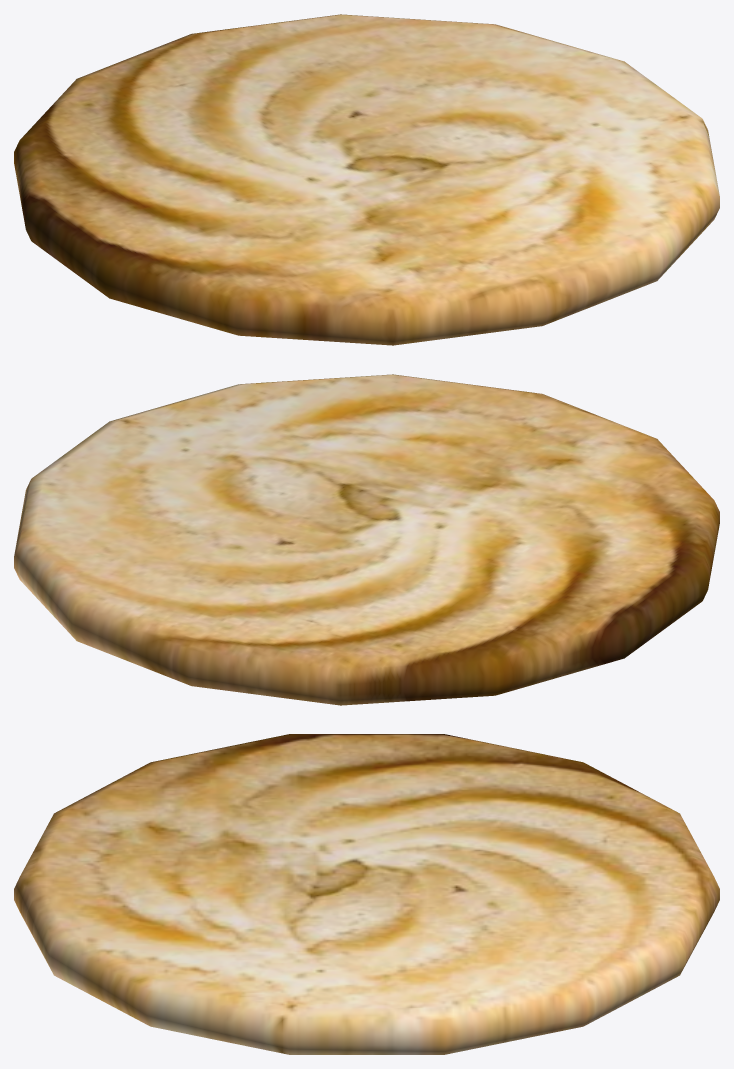
File: candy_waf_4.fbx
3 renders of one model, top to bottom at view 1: azimuth 30°, elevation 25°; view 2: azimuth 150°, elevation 25°; view 3: azimuth 270°, elevation 25°, orthographic.
Parts seen in each view (by area): view 1: c_w_4; view 2: c_w_4; view 3: c_w_4.
Boxes of the visible parts, x1,y1,x2,y2 form: c_w_4: [14, 14, 719, 345]; c_w_4: [14, 374, 719, 705]; c_w_4: [14, 734, 719, 1054].
Size of the model in its own units: 173 by 12.36 by 177.
